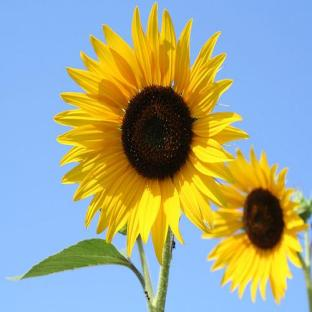sunflower: (7, 4, 250, 312)
